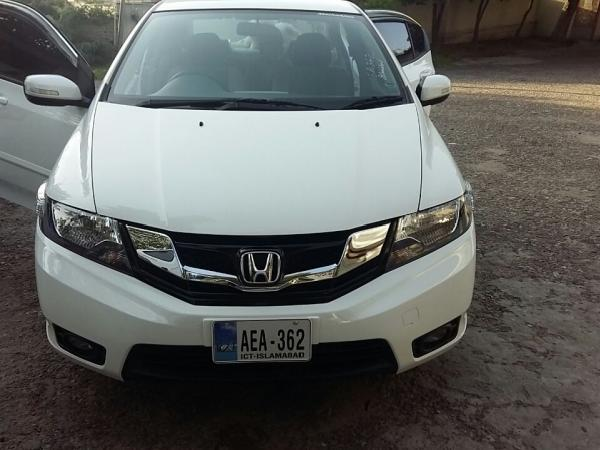plate: (209, 316, 314, 366)
